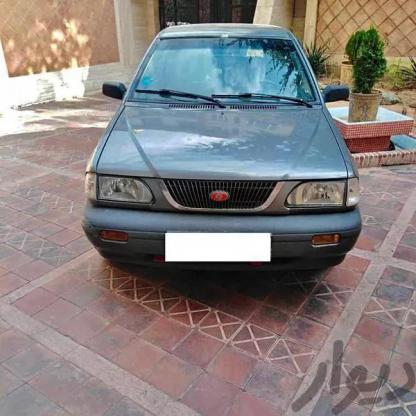Car: (72, 20, 375, 284)
